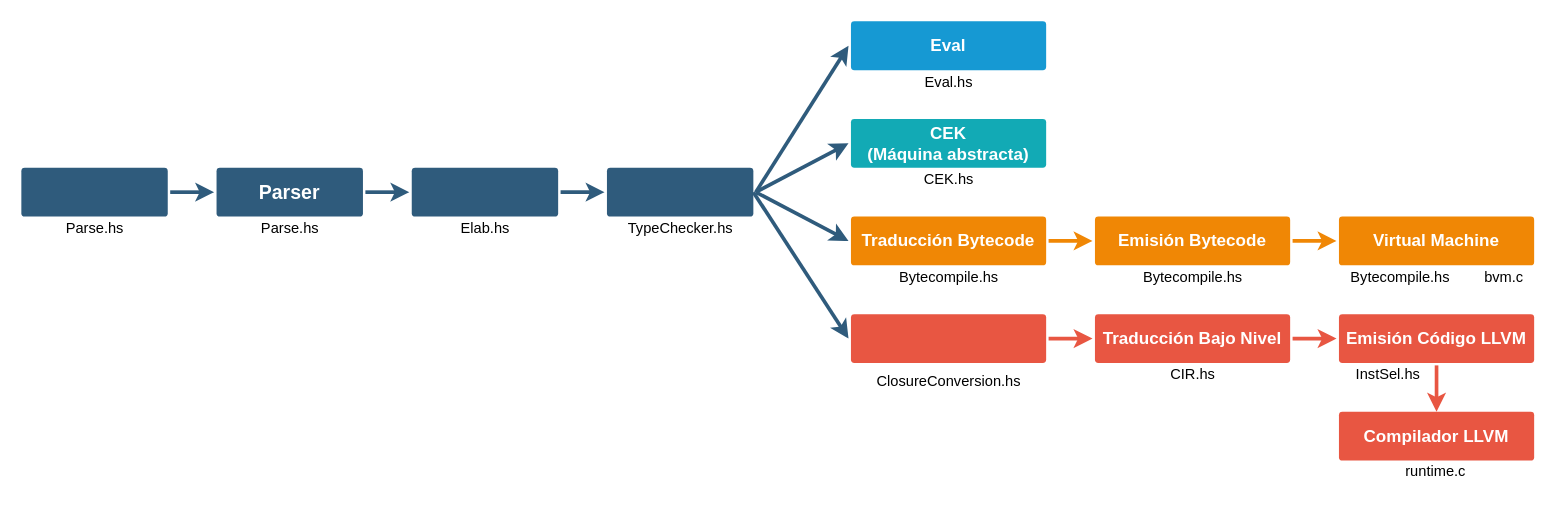
Some shapes in this 1554 by 510 pixel diagram are drawn without their labels. Here are the shapes that lost their labels. From the top down, the centre of each, then its label:
the point at 94,191: Lexer
the point at 484,191: Elab
the point at 679,191: Type Checker
the point at 948,338: Closure Conversion
